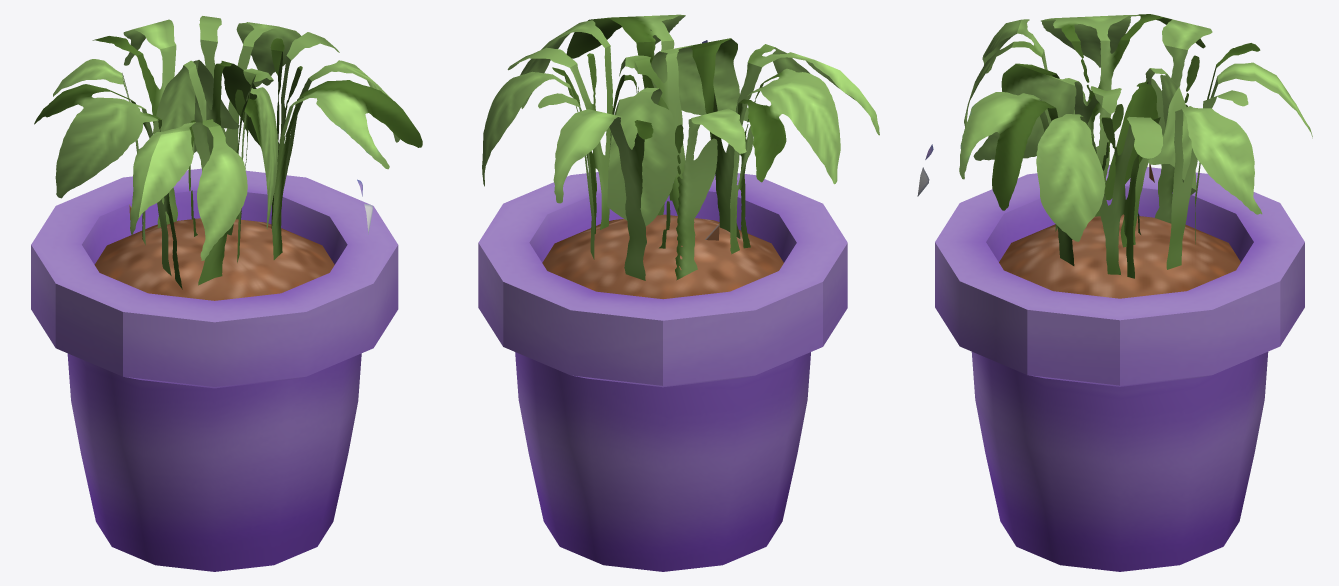
Rendered from catnip.FBX.
The picture shows the model from 3 angles, left to right: view 1: azimuth 30°, elevation 25°; view 2: azimuth 150°, elevation 25°; view 3: azimuth 270°, elevation 25°; orthographic projection.
Visible parts, largest first — view 1: Object001; view 2: Object001; view 3: Object001.
Part boxes in pixels (box(x1,y1,x2,y2)): Object001: box(31, 16, 422, 571); Object001: box(478, 14, 879, 571); Object001: box(917, 14, 1312, 571).
Size of the model in its own units: 97.11 by 121 by 99.33.
1 material, 1 textured.
